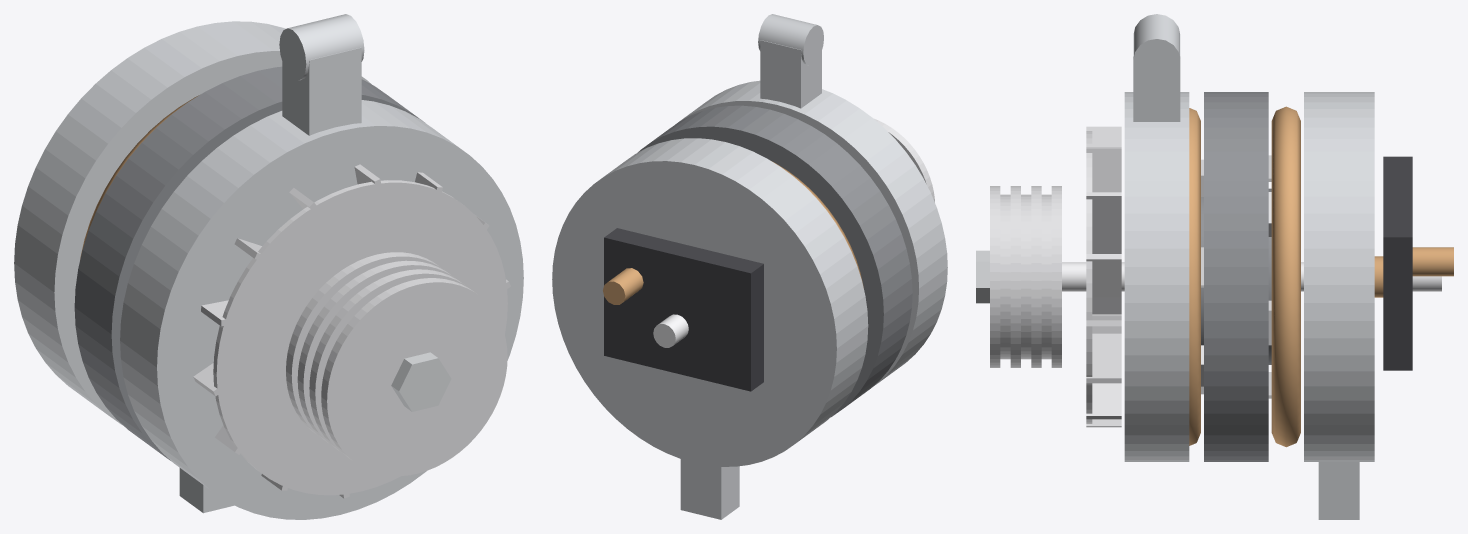
File: alternador.glb
3 views of the same model, side by side, from view 1: azimuth 30°, elevation 25°; view 2: azimuth 150°, elevation 25°; view 3: azimuth 270°, elevation 25° (orthographic). The views are drawn at different scales.
Parts seen in each view (by area): view 1: tapa_delantera, ventilador, polea, tapa_trasera, estator, tuerca_polea; view 2: tapa_trasera, regulador, tapa_delantera, estator, rotor, polea; view 3: estator, tapa_trasera, tapa_delantera, polea, ventilador, regulador, rotor, tuerca_polea.
Boxes of the visible parts, bbox=[...] form: tapa_delantera: bbox=[120, 14, 523, 519]; ventilador: bbox=[193, 164, 510, 498]; polea: bbox=[286, 252, 507, 476]; tapa_trasera: bbox=[14, 21, 371, 513]; estator: bbox=[74, 66, 424, 460]; tuerca_polea: bbox=[391, 352, 451, 411]; tapa_trasera: bbox=[552, 138, 868, 519]; regulador: bbox=[603, 228, 763, 391]; tapa_delantera: bbox=[678, 14, 947, 387]; estator: bbox=[638, 105, 912, 417]; rotor: bbox=[653, 314, 688, 347]; polea: bbox=[873, 118, 934, 202]; estator: bbox=[1189, 92, 1300, 461]; tapa_trasera: bbox=[1304, 92, 1374, 519]; tapa_delantera: bbox=[1124, 14, 1189, 461]; polea: bbox=[990, 186, 1061, 367]; ventilador: bbox=[1086, 126, 1121, 427]; regulador: bbox=[1383, 156, 1453, 370]; rotor: bbox=[1062, 155, 1441, 398]; tuerca_polea: bbox=[976, 250, 989, 303].
Bounding box in the file's own units: 1.26 × 1.81 × 1.63.
